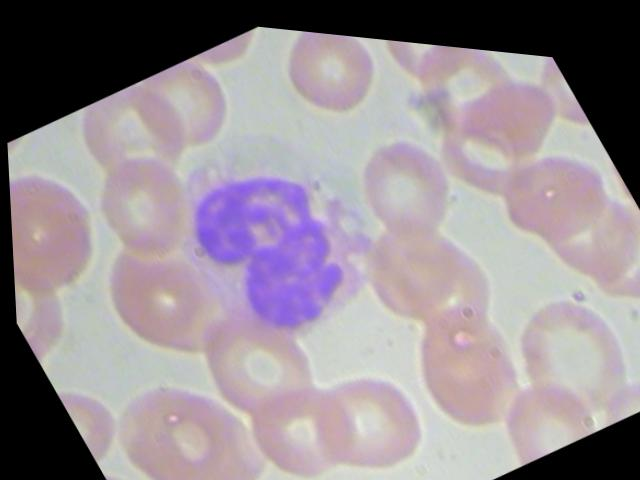Red Blood Cells: (166, 272, 336, 449), (481, 251, 639, 429), (384, 281, 539, 445), (284, 340, 441, 479), (6, 145, 126, 323), (330, 102, 474, 248), (479, 111, 628, 251), (77, 129, 214, 274), (223, 355, 376, 479), (259, 21, 402, 135), (125, 42, 247, 166), (475, 347, 600, 464), (353, 29, 494, 97)
White Blood Cells: (129, 82, 420, 388)
